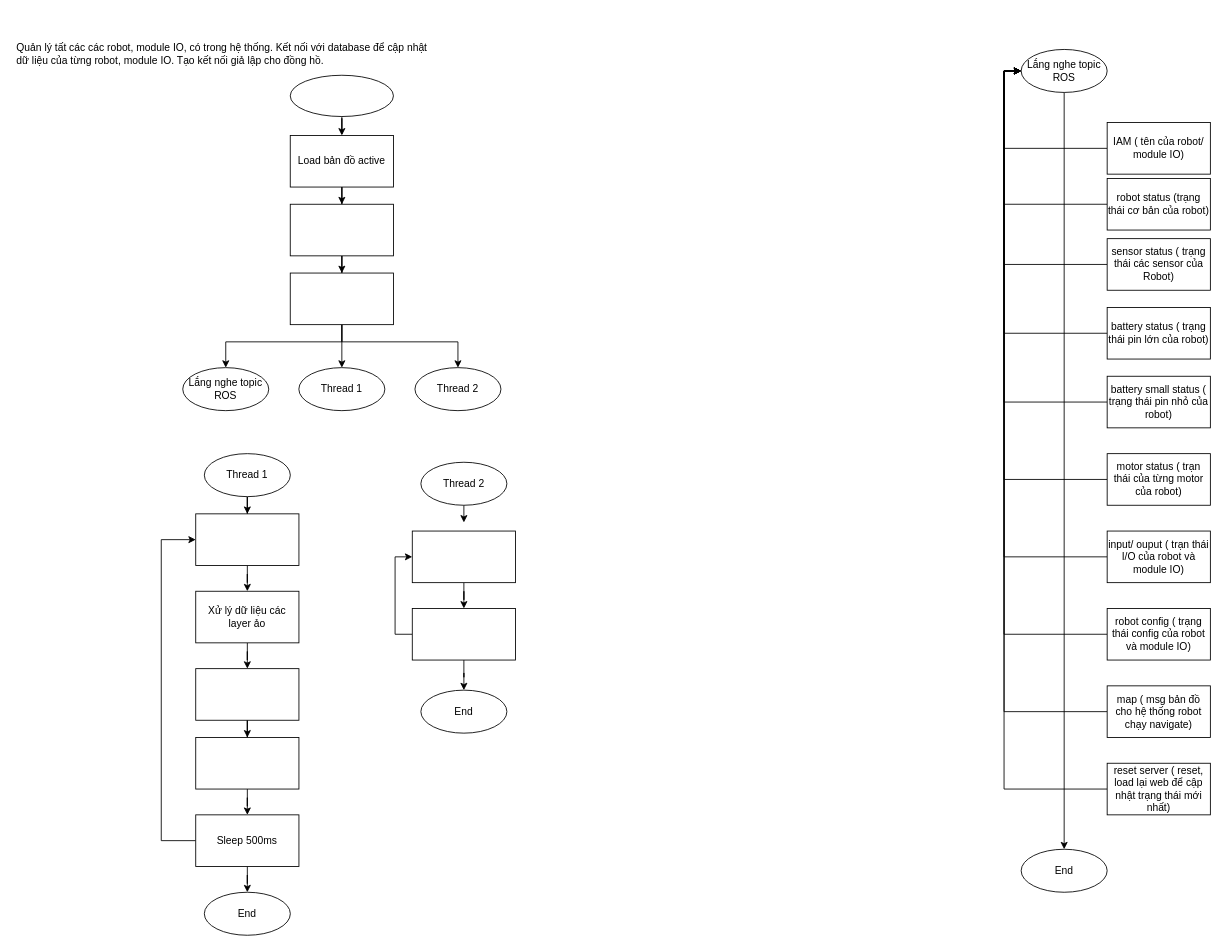
Some shapes in this 1226 by 950 pixel diagram are drawn without their labels. The box of each missing label's shape, as (x1, y1, x2, y2) in pixels:
Cập nhật các list thông tin của robot/ module IO: (289, 272, 393, 325)
cập nhật vào database: (195, 668, 299, 720)
Gửi các tín hiệu giả lập cho module IO: (411, 530, 515, 583)
Gửi tín hiệu master aviable: (195, 737, 299, 789)
khởi tạo và kết nối với database: (289, 203, 393, 256)
Sleep 1000ms: (411, 608, 515, 660)
Start: (289, 74, 393, 117)
Xử lý các dữ liệu mới nhất của robot, module IO: (195, 513, 299, 565)
